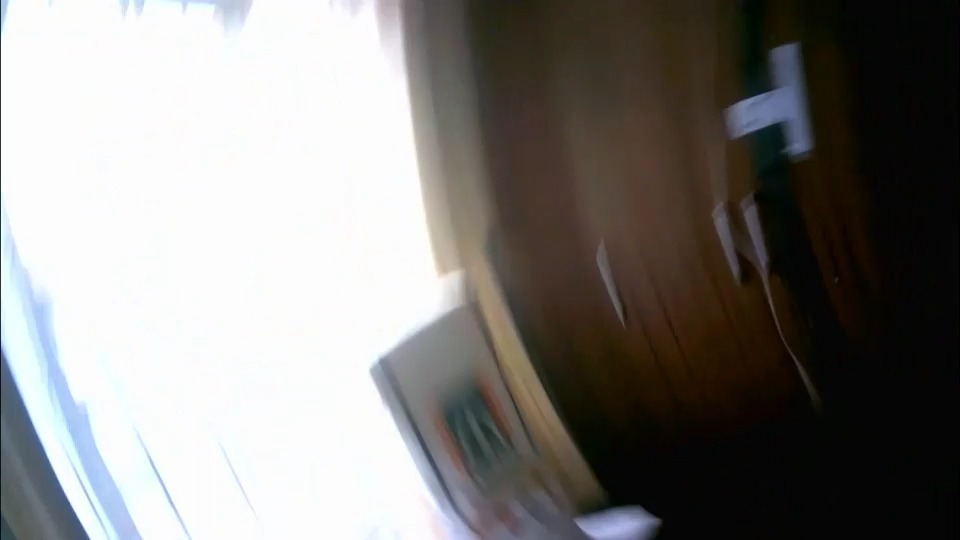maize_flour_green_label: (365, 268, 590, 540)
